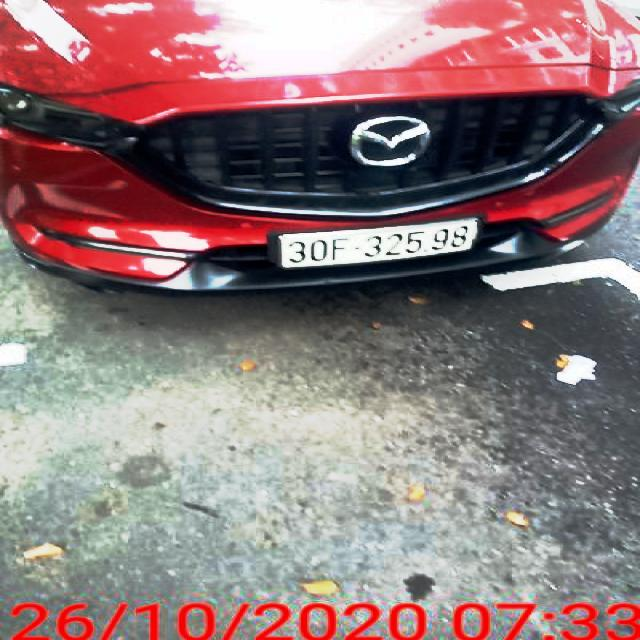license_plate: (281, 219, 476, 268)
